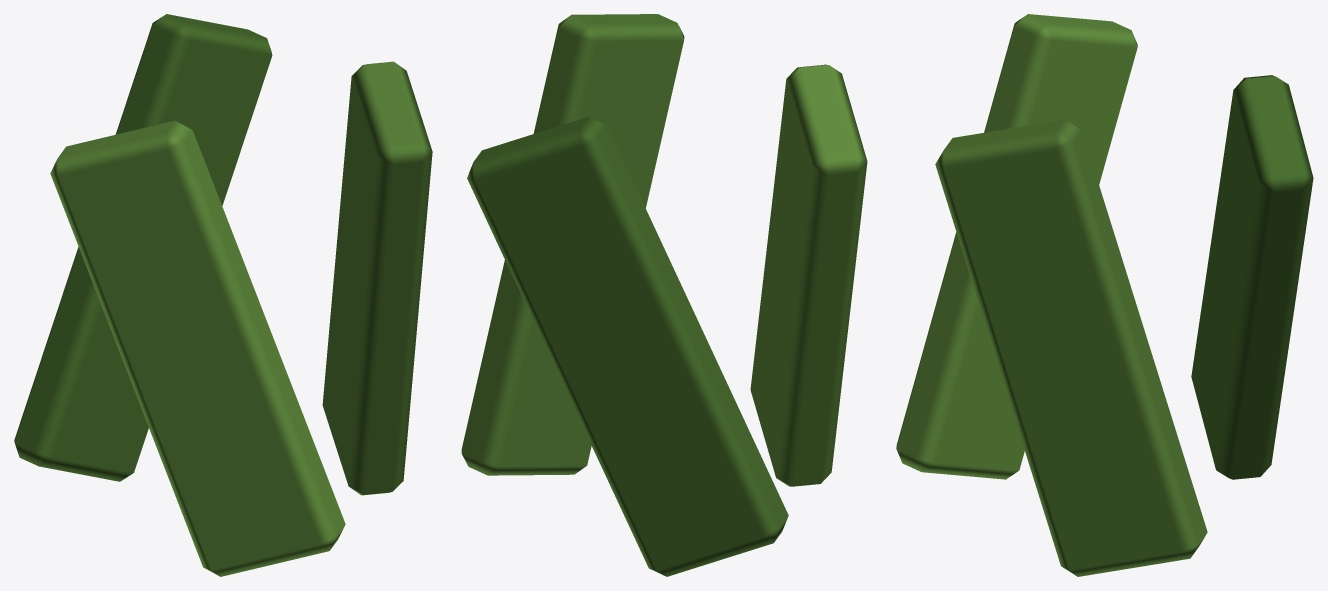
Rendered from tuft.409e3b08.glb.
The picture shows the model from 3 angles, left to right: view 1: azimuth 30°, elevation 25°; view 2: azimuth 150°, elevation 25°; view 3: azimuth 270°, elevation 25°; orthographic projection.
Visible parts, largest first — view 1: body; view 2: body; view 3: body.
Part boxes in pixels (bbox=[...]): body: bbox=[14, 14, 432, 576]; body: bbox=[461, 14, 867, 576]; body: bbox=[896, 14, 1313, 576].
Bounding box in the file's own units: 0.0884 × 0.1032 × 0.088.
